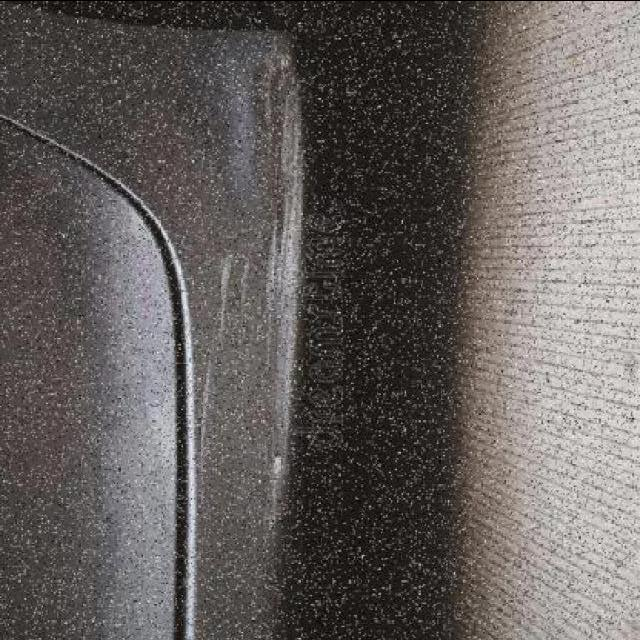RunningBoard-Dent: (166, 16, 327, 640)
